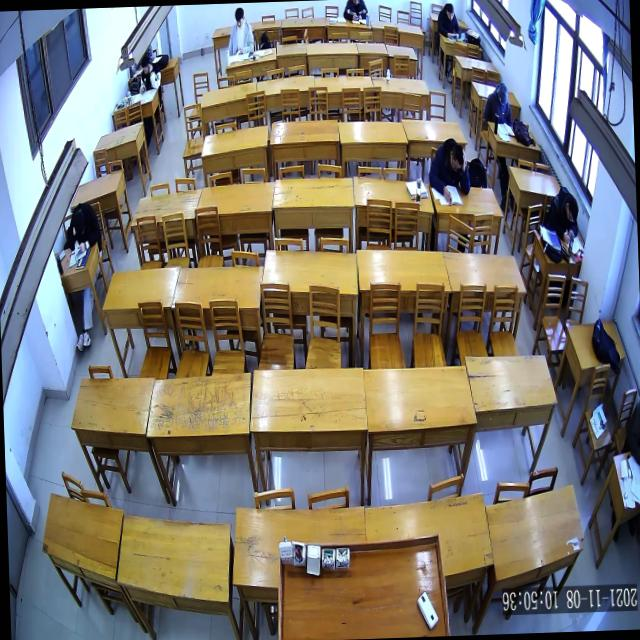down: (448, 142, 465, 174), (564, 195, 579, 225), (72, 209, 86, 238), (496, 80, 509, 106), (233, 5, 246, 28), (140, 54, 150, 76), (444, 2, 454, 22)
sit: (426, 136, 471, 206), (544, 183, 580, 244), (64, 198, 101, 254), (225, 4, 255, 56), (481, 79, 513, 125), (137, 52, 162, 95), (435, 1, 461, 42)
